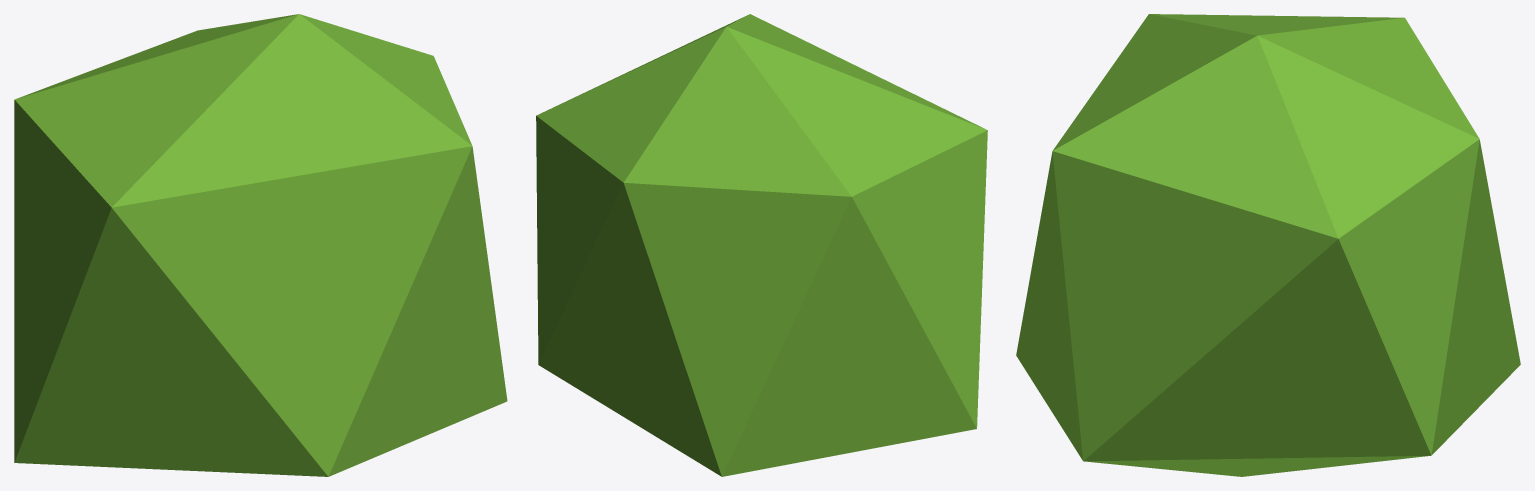
File: Bush3.fbx
The picture shows the model from 3 angles, left to right: view 1: azimuth 30°, elevation 25°; view 2: azimuth 150°, elevation 25°; view 3: azimuth 270°, elevation 25°; orthographic projection. The views are drawn at different scales.
Parts seen in each view (by area): view 1: Bush_1a; view 2: Bush_1a; view 3: Bush_1a.
Part boxes in pixels (box(x1,y1,x2,y2)): Bush_1a: box(14, 14, 507, 476); Bush_1a: box(536, 14, 987, 476); Bush_1a: box(1016, 14, 1520, 476).
Bounding box in the file's own units: 177 × 165 × 165.
